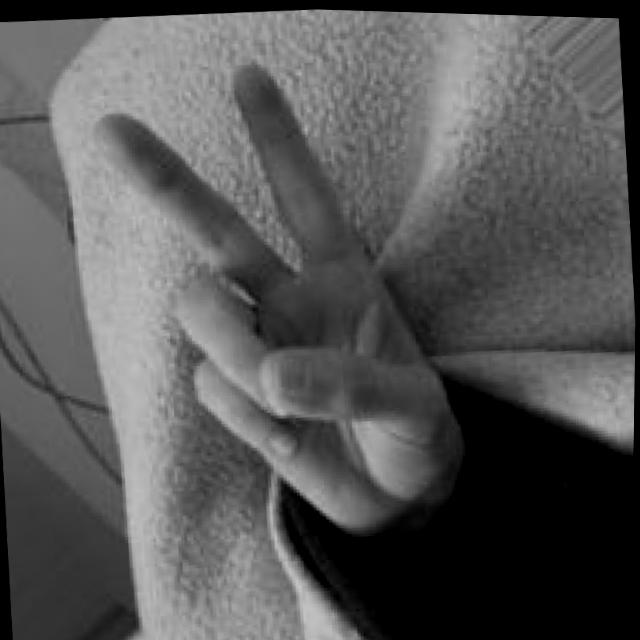V: (69, 37, 482, 561)
